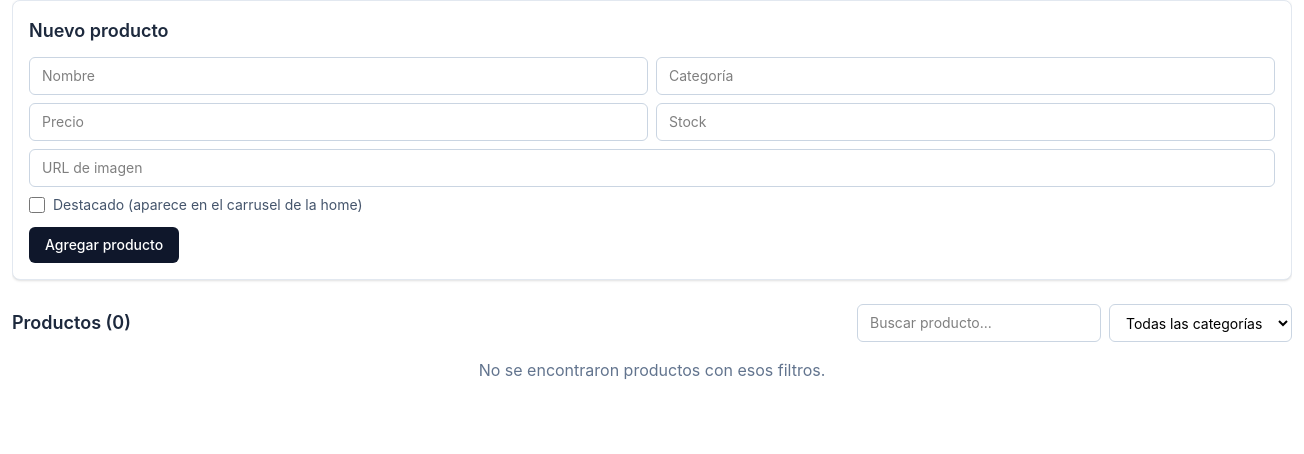
it: AdminProducts › crea un producto nuevo
The width and height of the screenshot is (1304, 454).
Expected: the heading "Nuevo producto" is shown, left=29, top=20, right=168, bottom=41
In the field with placeholder "Nombre": (338, 76) left=29, top=57, right=648, bottom=95, type "Mate"
In the field with placeholder "Categoría": (966, 76) left=656, top=57, right=1275, bottom=95, type "Hogar"
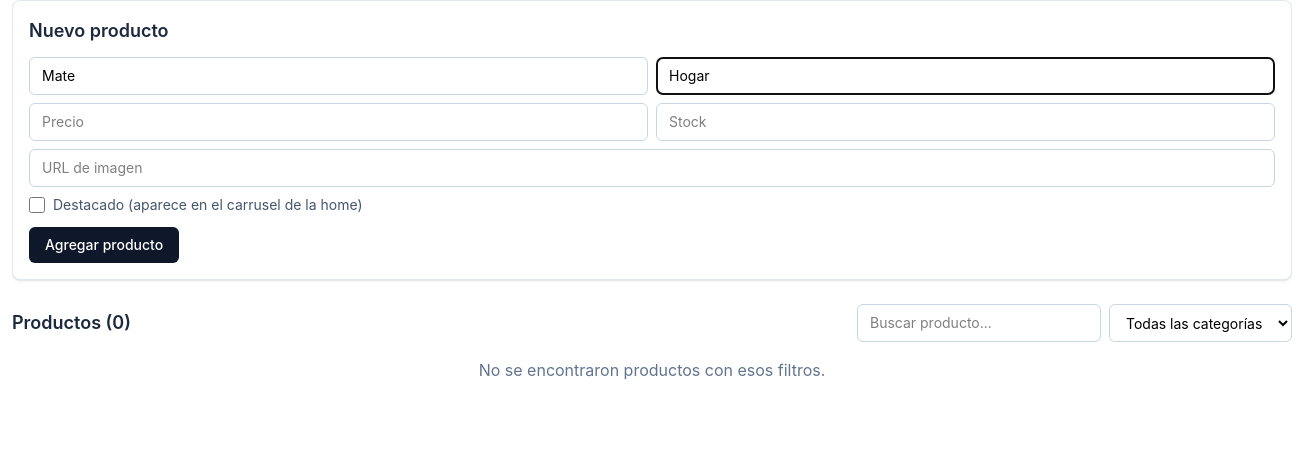
In the number field with placeholder "Precio": (338, 122) left=29, top=103, right=648, bottom=141, type "4999"
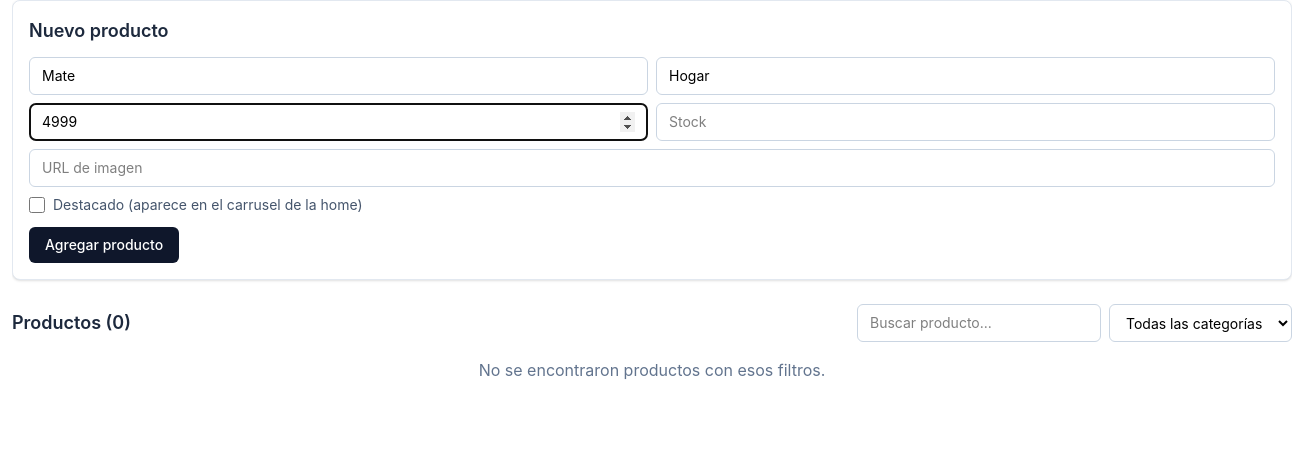
In the number field with placeholder "Stock": (966, 122) left=656, top=103, right=1275, bottom=141, type "10"
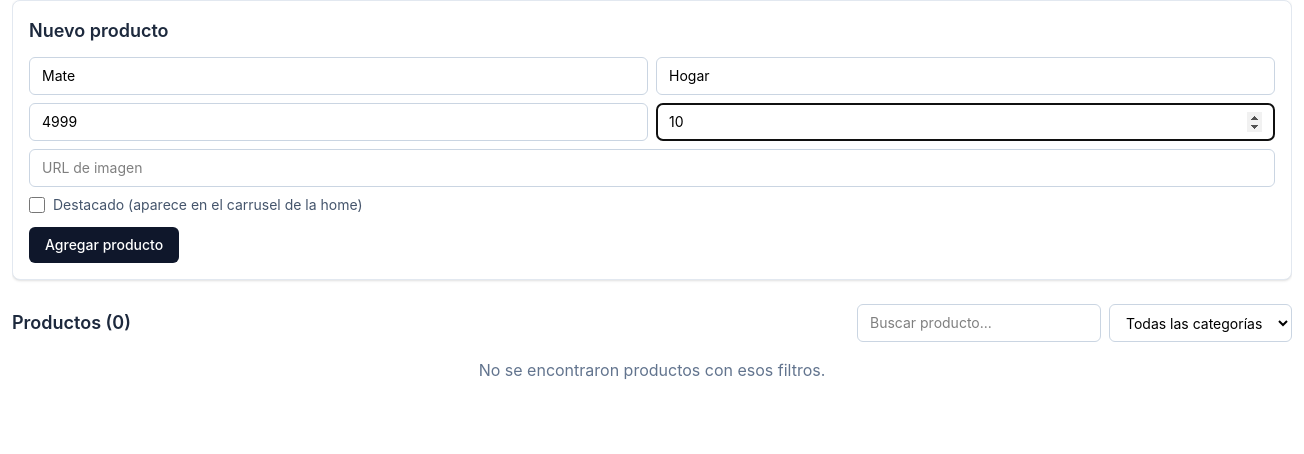
In the field with placeholder "URL de imagen": (652, 168) left=29, top=149, right=1275, bottom=187, type "mate.png"
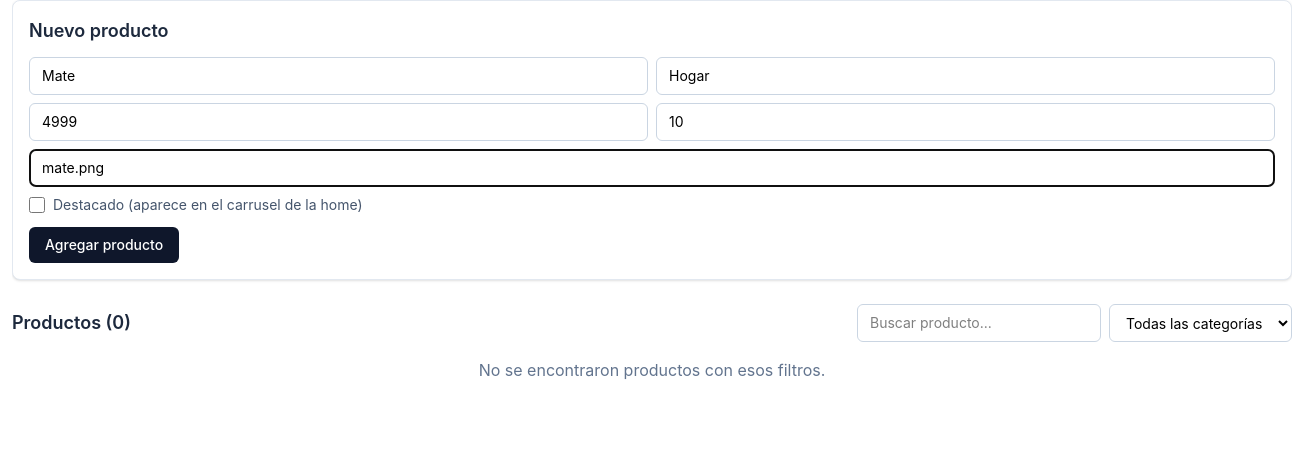
Click the checkbox labelled "Destacado (aparece en el carrusel de la home)": (37, 205) left=29, top=197, right=45, bottom=213
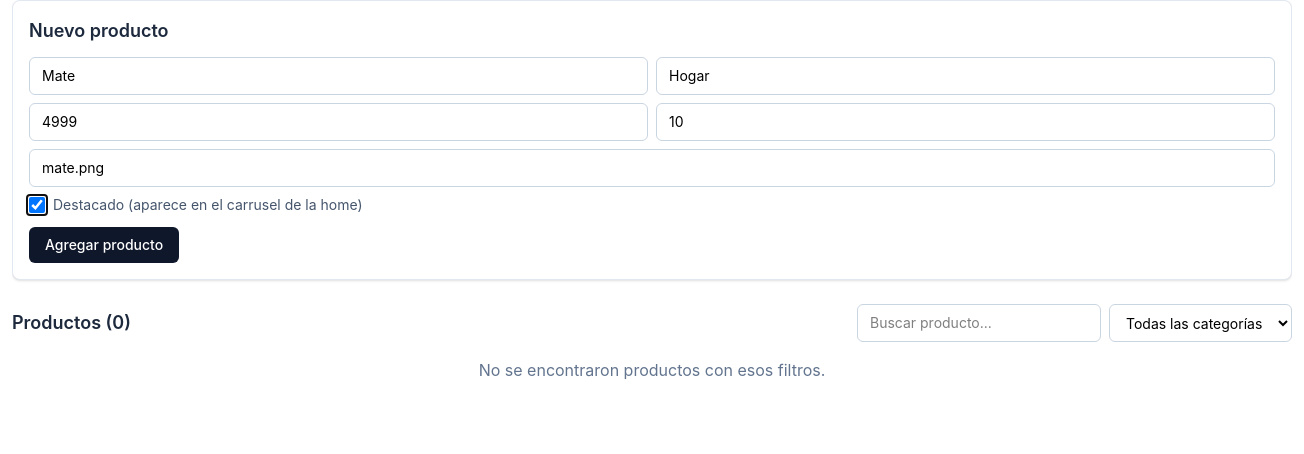
Click the button "Agregar producto": (104, 245) left=29, top=227, right=179, bottom=263
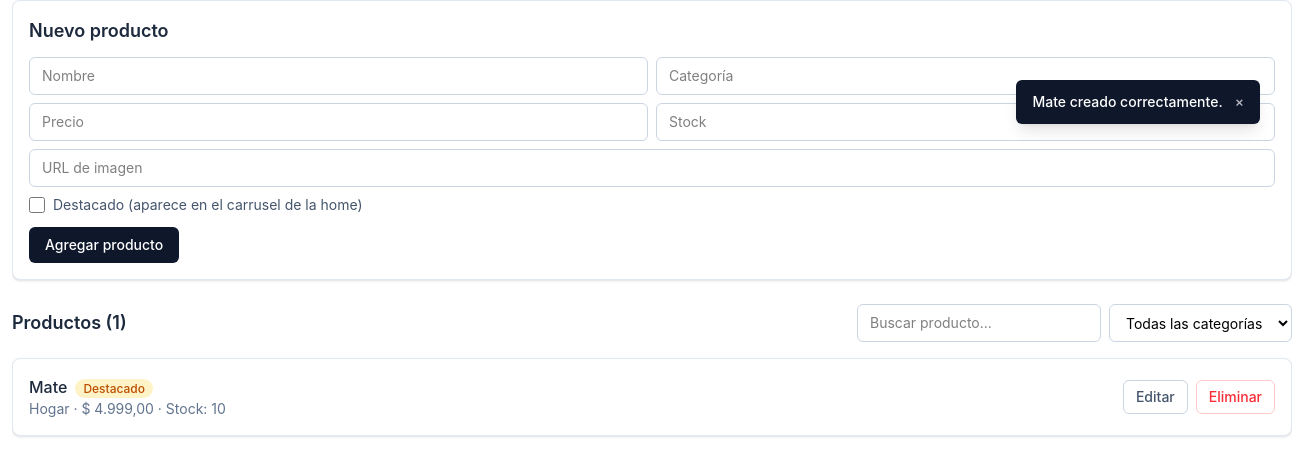
Expected: the text "Mate" is shown, left=29, top=377, right=67, bottom=397
Expected: the text "Mate creado correctamente." is shown, left=1032, top=92, right=1223, bottom=112
